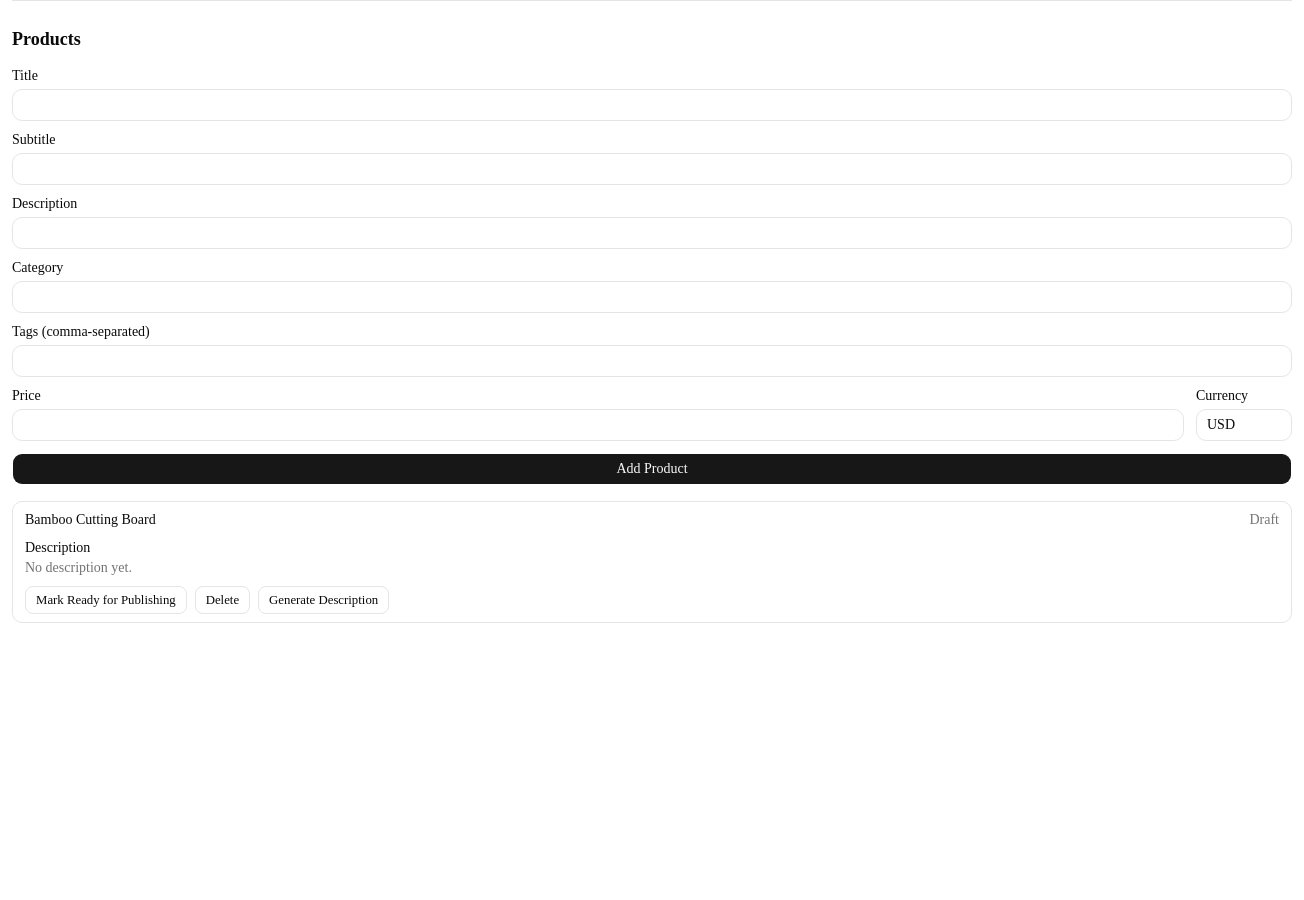
Test: ProductIntelligenceSection › deletes a product and removes it from the list
Expected: the text "Bamboo Cutting Board" is shown, [25,510,156,530]
Step 1. Click the button "Delete" → point(222, 600), box [195,586,250,614]
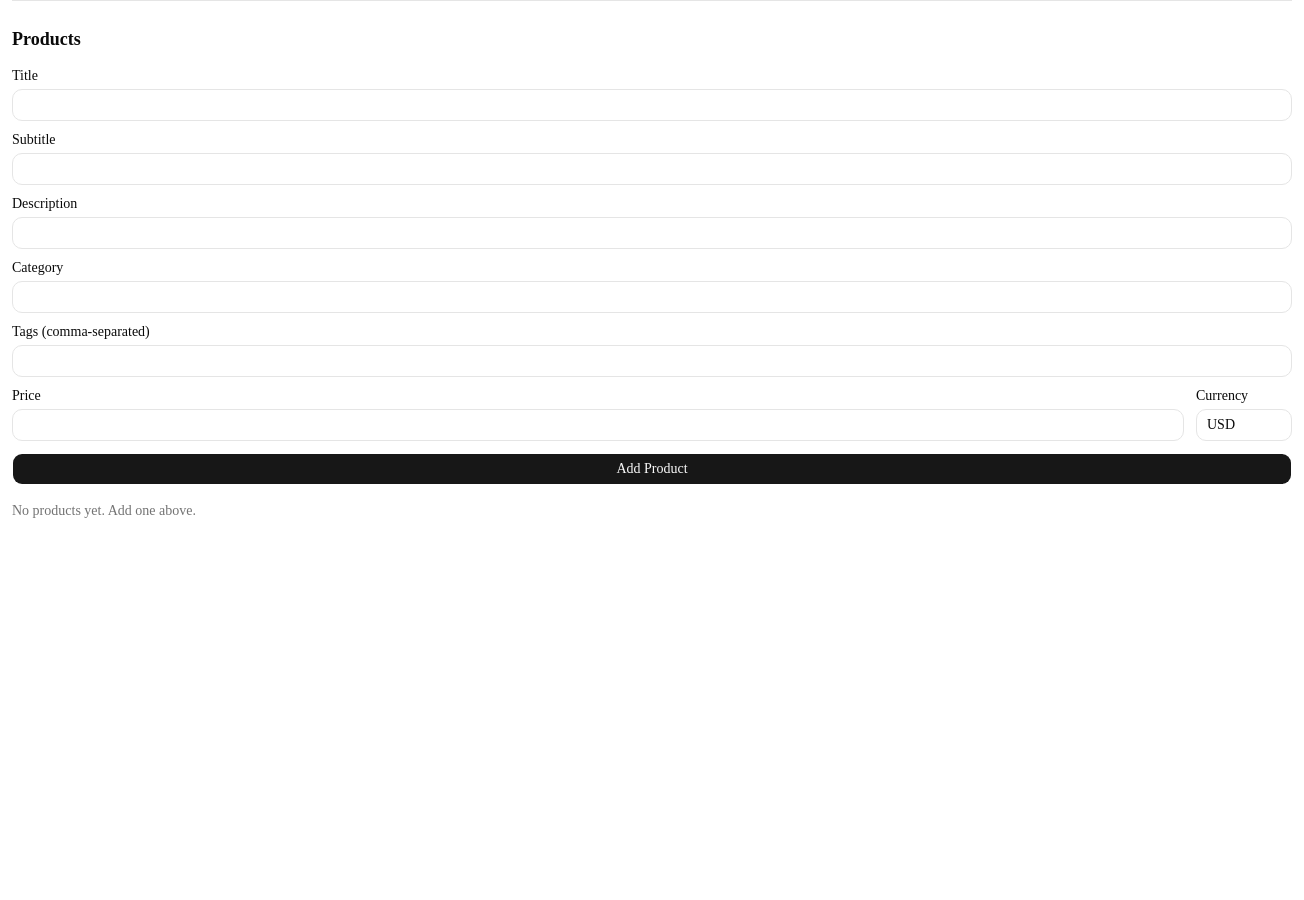
Now the text "Bamboo Cutting Board" is gone
